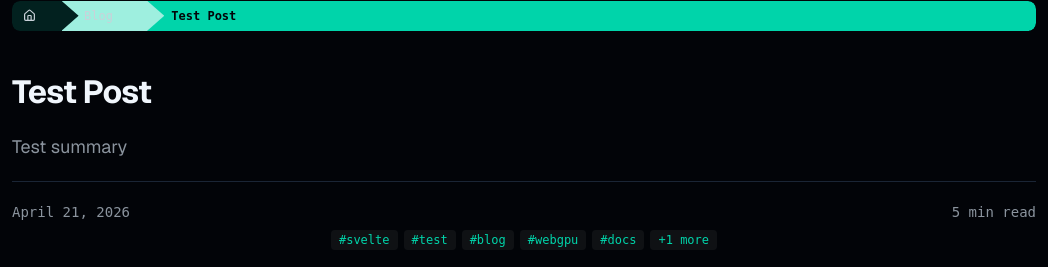
Test: PostHeader › toggles tags visibility when there are more than five tags
Expected: the text "#tailwind" is not shown
Click the button "+1 more".
click(684, 240)  # box top-left (650, 230), bottom-right (717, 250)
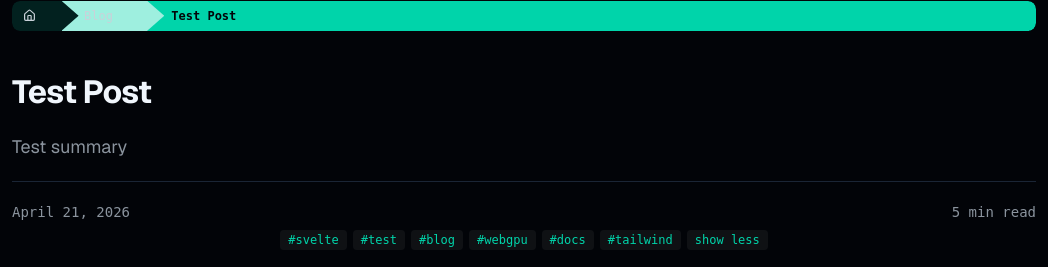
Result: the link "#tailwind" is shown at top-left (600, 230), bottom-right (681, 250)
Click the button "show less".
click(727, 240)  # box top-left (687, 230), bottom-right (768, 250)
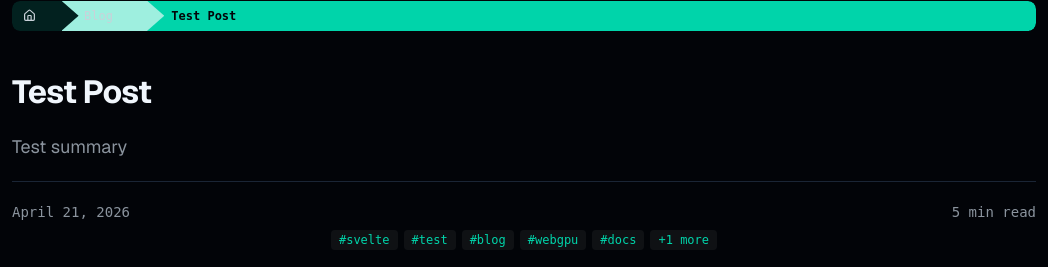
Result: the link "#tailwind" is gone
